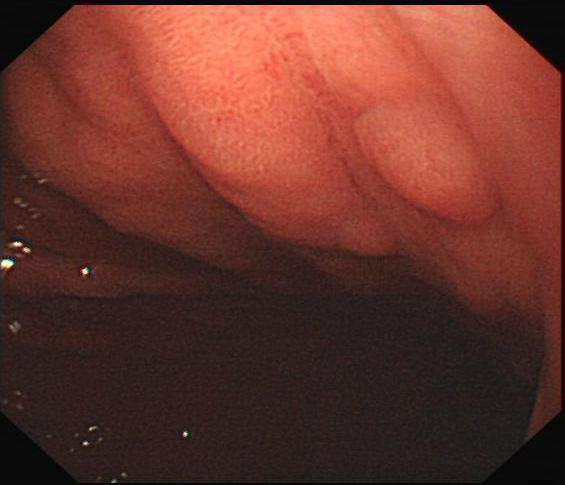Polyp: (349, 97, 501, 227)
